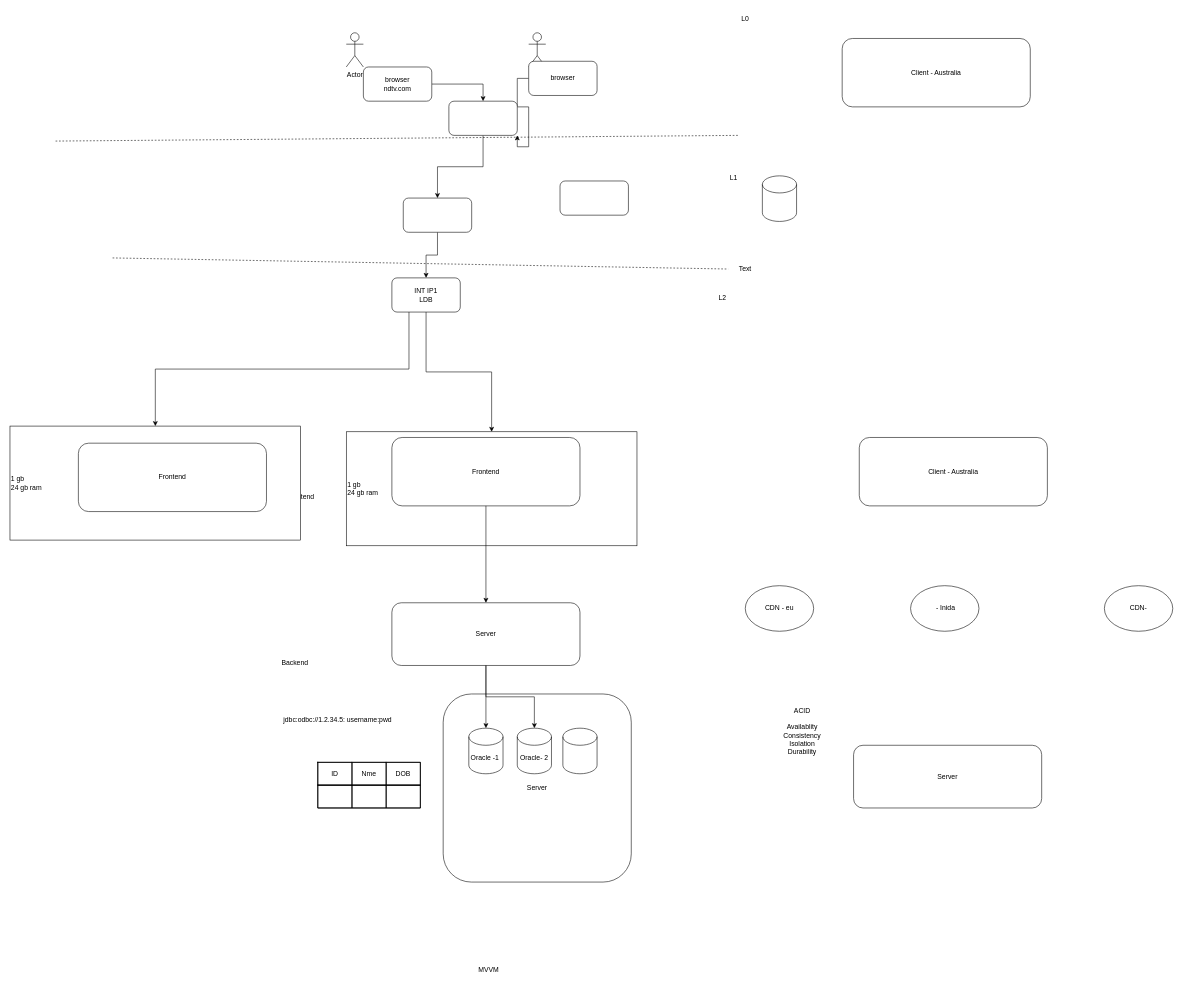
Some shapes in this 1183 by 988 pixel diagram are drawn without their labels. The centre of each missing label's shape, as x and y in pixels:
isp provider ndtv - ip1: the point at 482,118
ldap: the point at 779,198
Postgres: the point at 579,751
Reverse Proxy - ip1 INT IP1: the point at 437,215
Vpn: the point at 593,197
